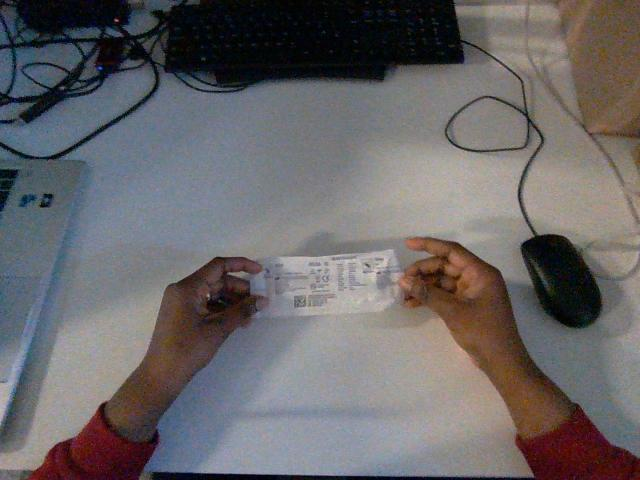syringe: (251, 250, 400, 316)
